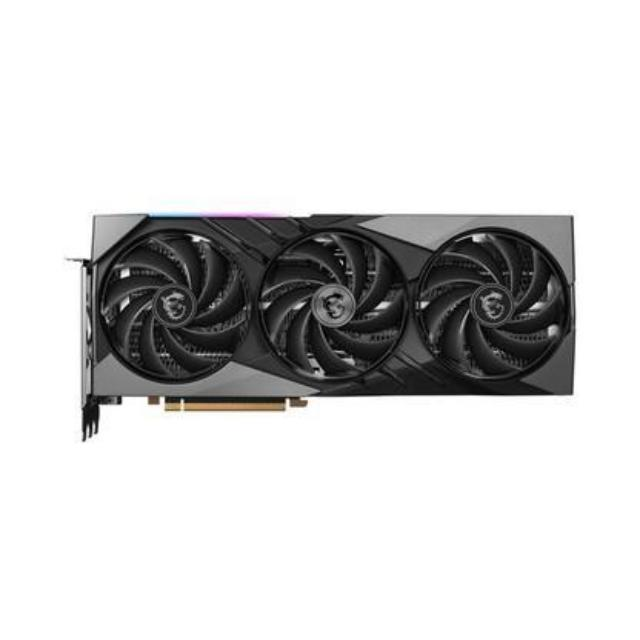GPU: (78, 203, 580, 414)
